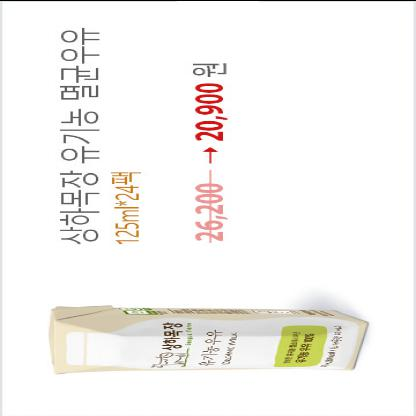tetra: (26, 294, 386, 382)
